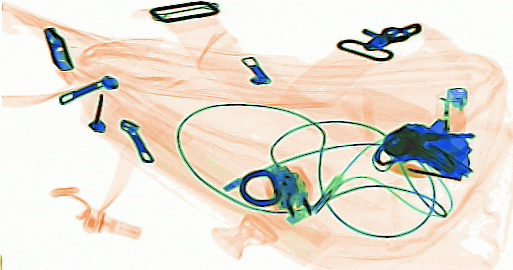lighter: (434, 84, 469, 168)
